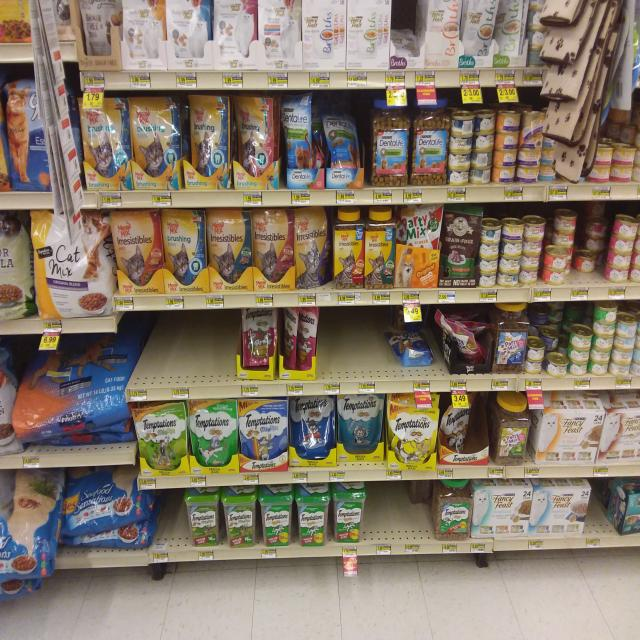100- O.O.S: (155, 312, 237, 399), (320, 309, 357, 394), (358, 308, 383, 393), (368, 484, 394, 556), (165, 491, 184, 561), (395, 481, 409, 554)
